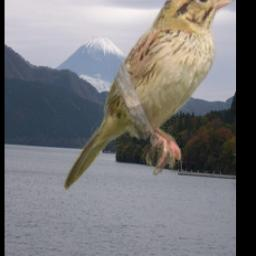Sparrow: (62, 0, 235, 191)
